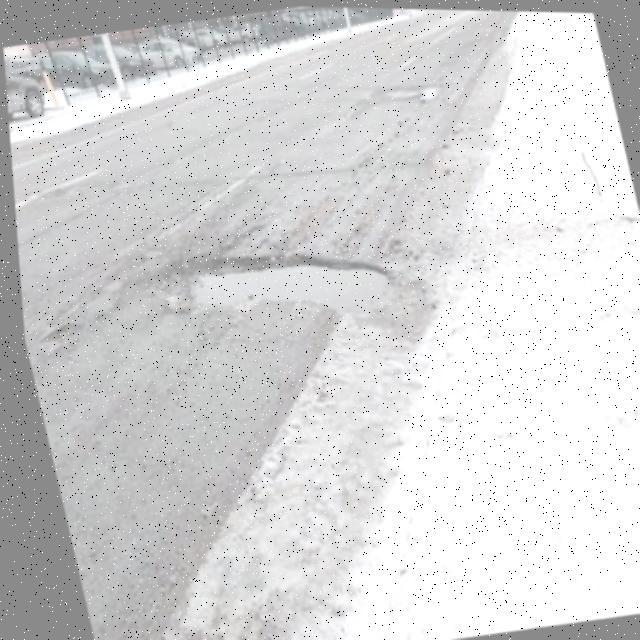pothole: (138, 216, 403, 350)
